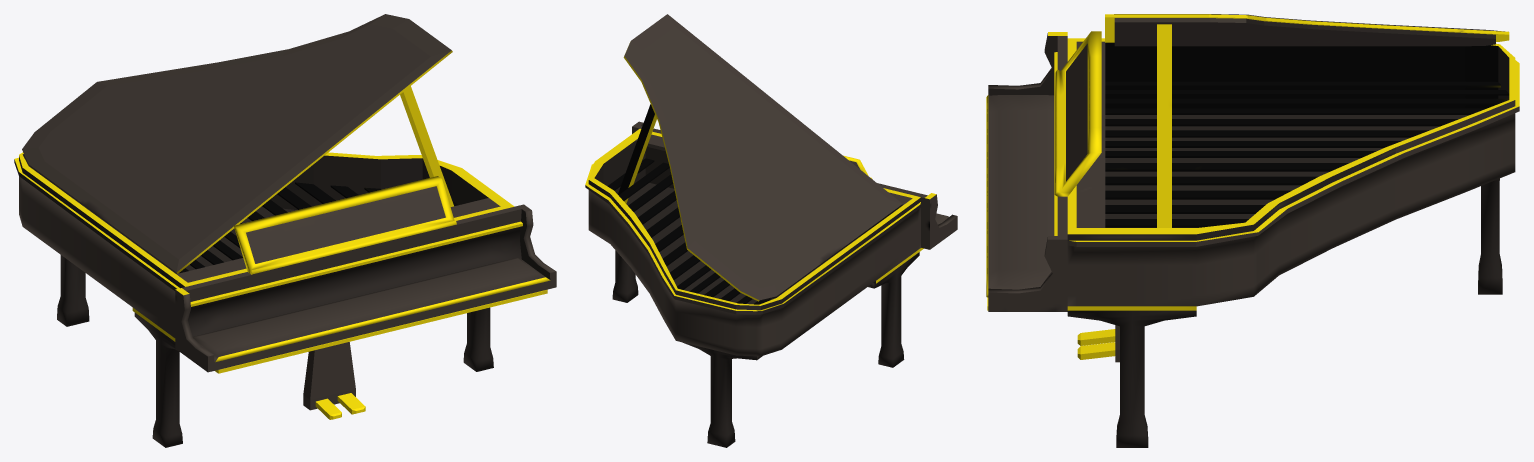
File: piano.fbx
3 views of the same model, side by side, from view 1: azimuth 30°, elevation 25°; view 2: azimuth 150°, elevation 25°; view 3: azimuth 270°, elevation 25° (orthographic). The views are drawn at different scales.
Parts seen in each view (by area): view 1: piano; view 2: piano; view 3: piano.
Part boxes in pixels (<box>): piano: <box>14,14,556,447</box>; piano: <box>585,14,957,447</box>; piano: <box>986,14,1519,447</box>.
Bounding box in the file's own units: 1.54 × 1.41 × 1.67.
Materials: 1 (1 with a texture image).
